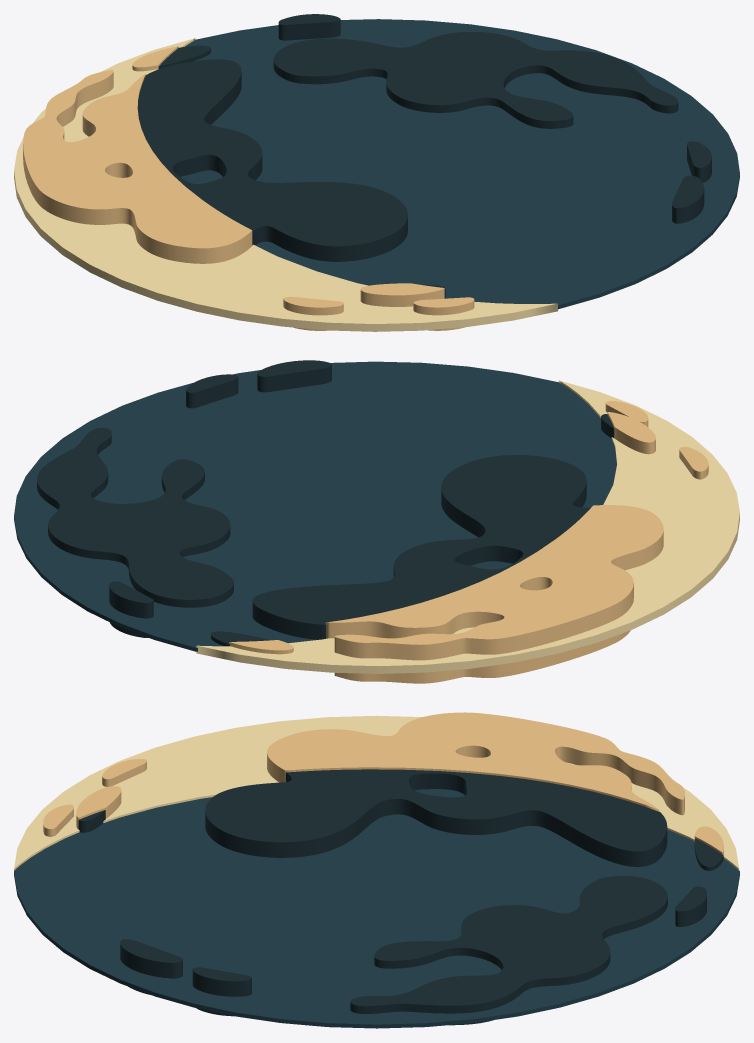
Rendered from emoji_u1f318.glb.
3 renders of one model, top to bottom at view 1: azimuth 30°, elevation 25°; view 2: azimuth 150°, elevation 25°; view 3: azimuth 270°, elevation 25°, orthographic.
Visible parts, largest first — view 1: emoji_u1f318; view 2: emoji_u1f318; view 3: emoji_u1f318.
Part boxes in pixels (x1=…): emoji_u1f318: x1=14, y1=14, x2=739, y2=331; emoji_u1f318: x1=14, y1=360, x2=739, y2=683; emoji_u1f318: x1=14, y1=712, x2=739, y2=1028.
Bounding box in the file's own units: 0.0339 × 0.002 × 0.0339.
